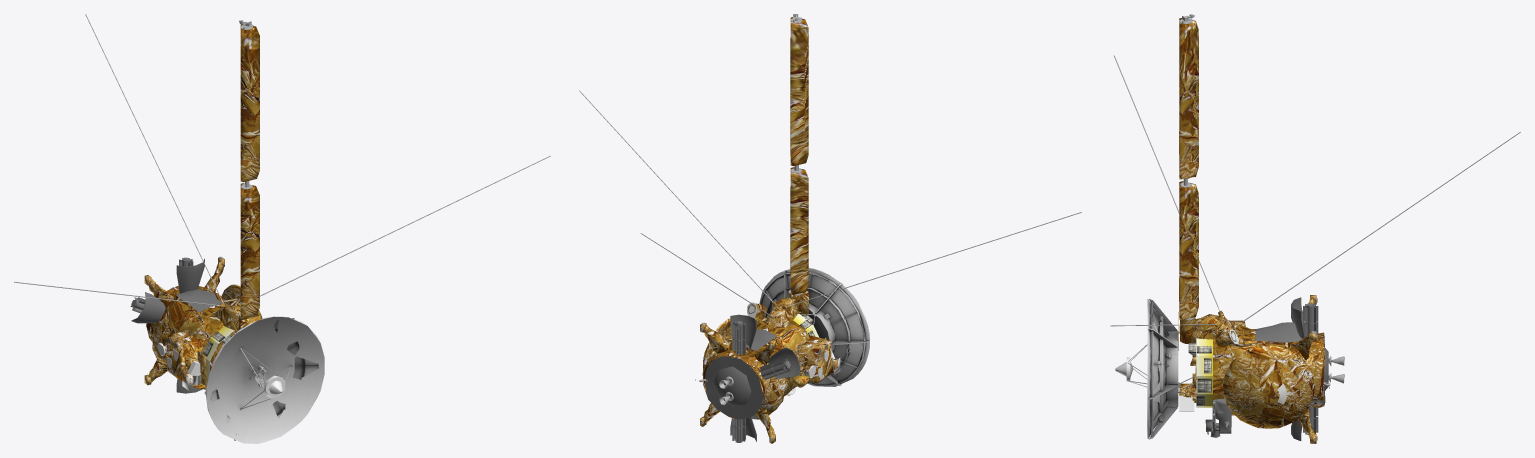
File: cassini.glb
3 renders of one model, left to right at view 1: azimuth 30°, elevation 25°; view 2: azimuth 150°, elevation 25°; view 3: azimuth 270°, elevation 25°, orthographic. The views are drawn at different scales.
Visible parts, largest first — view 1: foil_gold, dish, black_krinkle, aluminum, plastic_white; view 2: foil_gold, dish, black_krinkle, aluminum, plastic_dark; view 3: foil_gold, dish, black_krinkle, aluminum, plastic_dark, tex_01, foil_gold_2, plastic_white.
Part boxes in pixels (x1,y1,x2,y2): foil_gold: (144, 24, 262, 390); dish: (204, 316, 324, 443); black_krinkle: (131, 258, 222, 393); aluminum: (14, 14, 550, 409); plastic_white: (157, 301, 285, 398); foil_gold: (700, 17, 840, 443); dish: (759, 267, 869, 386); black_krinkle: (705, 314, 800, 441); aluminum: (579, 14, 1081, 443); plastic_dark: (723, 304, 828, 442); foil_gold: (1178, 18, 1331, 443); dish: (1147, 299, 1178, 439); black_krinkle: (1205, 297, 1328, 440); aluminum: (1110, 14, 1520, 443); plastic_dark: (1207, 303, 1318, 437); tex_01: (1188, 342, 1286, 405); foil_gold_2: (1196, 338, 1212, 407); plastic_white: (1115, 325, 1243, 411).
Size of the model in its own units: 17.98 by 13.11 by 11.66.
8 materials, 4 textured.
